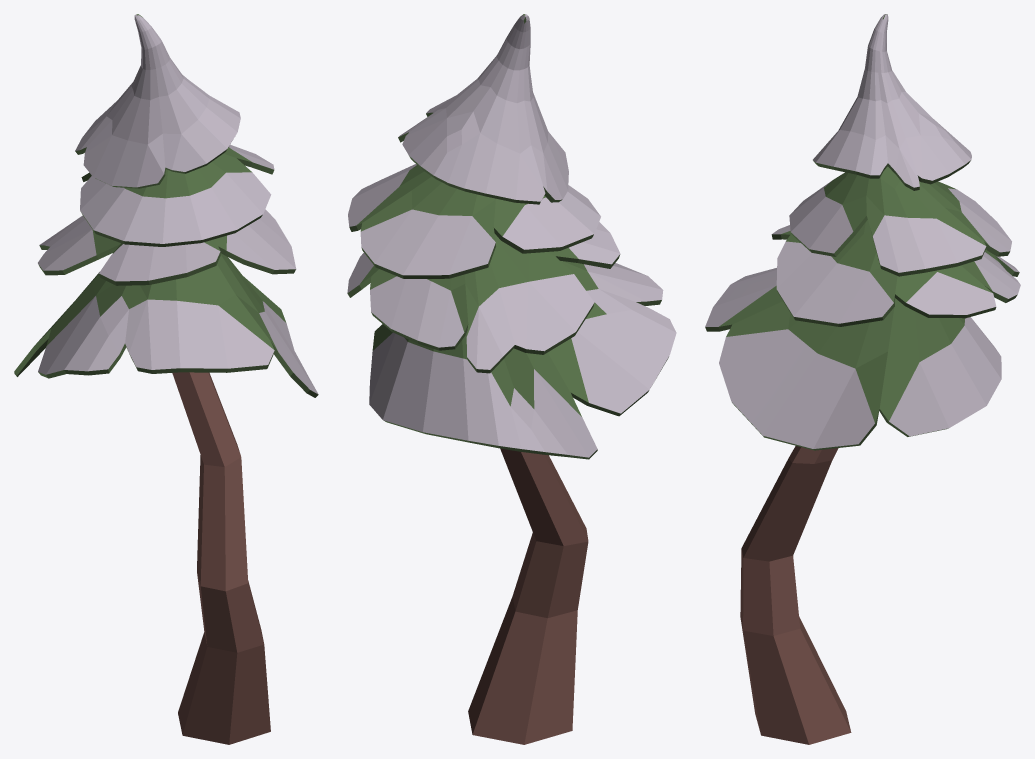
Rendered from pine_tree_snow_4.glb.
The picture shows the model from 3 angles, left to right: view 1: azimuth 30°, elevation 25°; view 2: azimuth 150°, elevation 25°; view 3: azimuth 270°, elevation 25°; orthographic projection. The views are drawn at different scales.
Visible parts, largest first — view 1: pine_tree_snow_4; view 2: pine_tree_snow_4; view 3: pine_tree_snow_4.
Boxes of the visible parts, x1,y1,x2,y2 form: pine_tree_snow_4: (14, 14, 318, 744); pine_tree_snow_4: (347, 14, 676, 744); pine_tree_snow_4: (705, 14, 1020, 744).
Bounding box in the file's own units: 1.25 × 3.34 × 1.39.
Materials: 1 (1 with a texture image).
